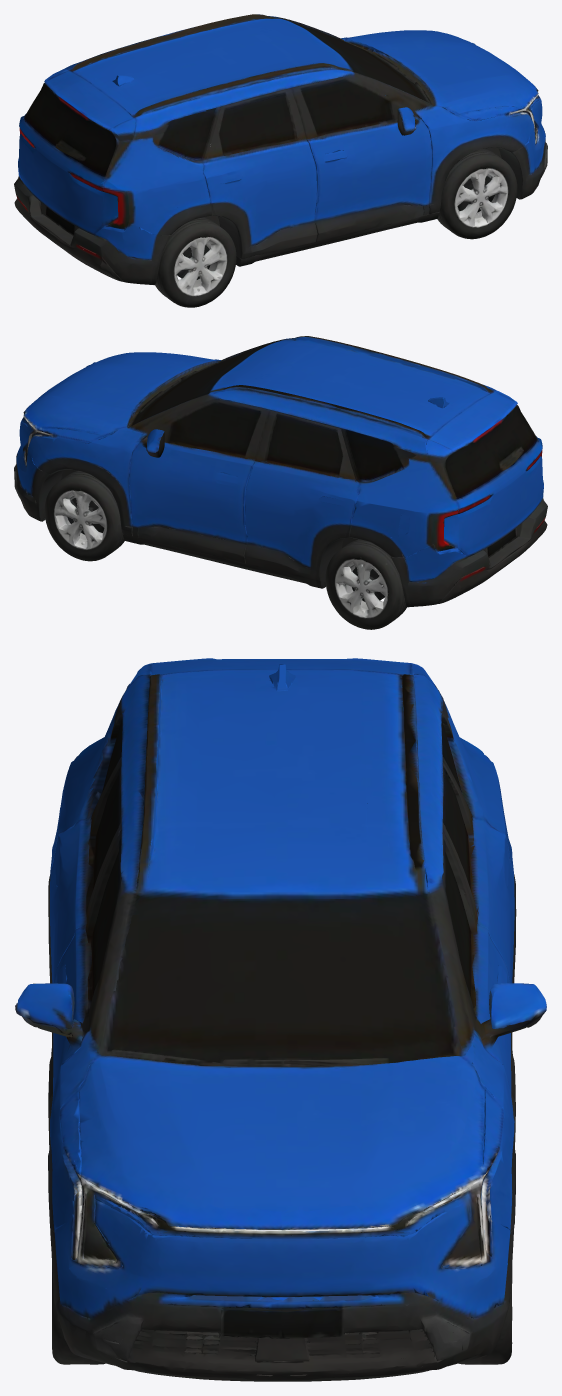
Rendered from suv.glb.
3 views of the same model, one above another, from view 1: azimuth 30°, elevation 25°; view 2: azimuth 150°, elevation 25°; view 3: azimuth 270°, elevation 25° (orthographic). The views are drawn at different scales.
Visible parts, largest first — view 1: tripo_node_4afbc810-08cc-47f3-84c5-4cef71ba61db; view 2: tripo_node_4afbc810-08cc-47f3-84c5-4cef71ba61db; view 3: tripo_node_4afbc810-08cc-47f3-84c5-4cef71ba61db.
Boxes of the visible parts, box(x1,y1,x2,y2) form: tripo_node_4afbc810-08cc-47f3-84c5-4cef71ba61db: box(14, 14, 547, 307); tripo_node_4afbc810-08cc-47f3-84c5-4cef71ba61db: box(14, 336, 547, 629); tripo_node_4afbc810-08cc-47f3-84c5-4cef71ba61db: box(15, 658, 546, 1381).
Bounding box in the file's own units: 0.9795 × 0.3936 × 0.4821.
1 material, 1 textured.
